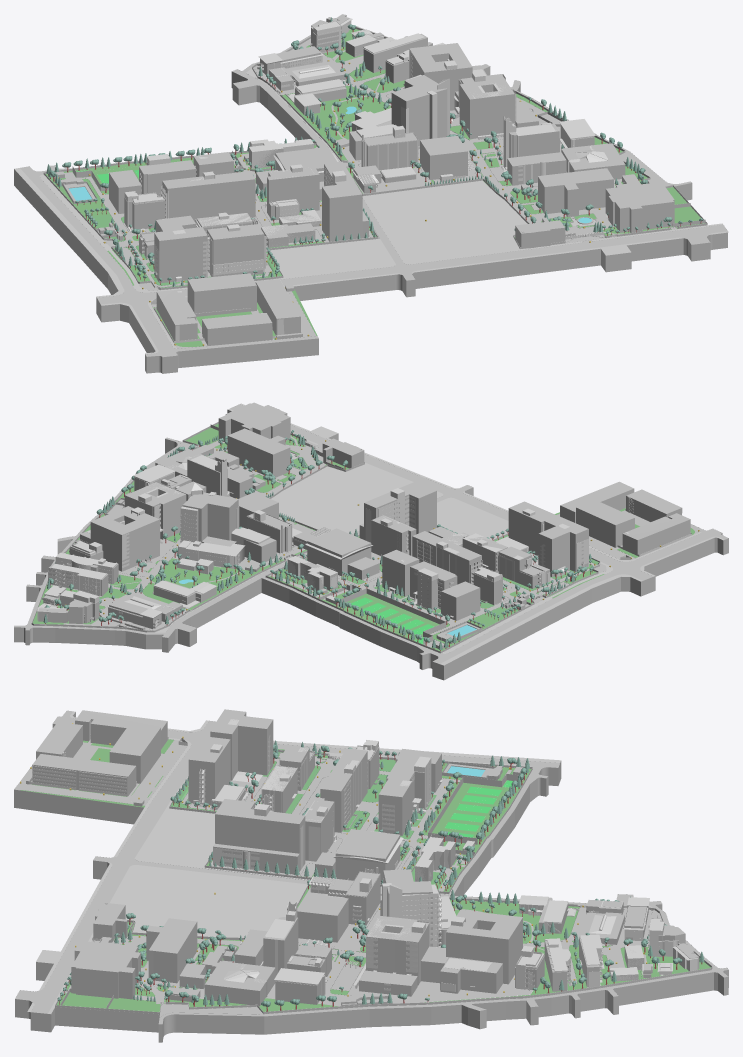
File: uec-all.glb
3 views of the same model, one above another, from view 1: azimuth 30°, elevation 25°; view 2: azimuth 150°, elevation 25°; view 3: azimuth 270°, elevation 25° (orthographic). The views are drawn at different scales.
Visible parts, largest first — view 1: Body19, Body29, Body623, Body714, buil_西2号館, buil_東4号館, Body28, buil_東講堂, buil_西9号館, buil_東本館A, buil_西10号館, buil_UECポートアライアンスセンター (+45 smaller); view 2: Body623, Body19, Body29, Body717, buil_東6号館, buil_西体育館, buil_東本館A, buil_西9号館, buil_東講堂, buil_西10号館, buil_東図書館A, Body28 (+52 smaller); view 3: Body623, Body19, Body29, buil_西10号館, buil_東6号館, buil_東4号館, buil_東講堂, Body28, buil_西9号館, buil_東本館A, buil_UECポートドーム絆, buil_西体育館 (+63 smaller).
Boxes of the visible parts, left/top/right/bottom form: Body19: left=20, top=14, right=727, bottom=357; Body29: left=363, top=180, right=527, bottom=263; Body623: left=49, top=15, right=727, bottom=373; Body714: left=412, top=238, right=683, bottom=288; buil_西2号館: left=162, top=171, right=255, bottom=223; buil_東4号館: left=459, top=74, right=538, bottom=139; Body28: left=270, top=238, right=395, bottom=277; buil_東講堂: left=605, top=178, right=674, bottom=232; buil_西9号館: left=154, top=217, right=207, bottom=283; buil_東本館A: left=538, top=168, right=613, bottom=217; buil_西10号館: left=322, top=161, right=368, bottom=241; buil_UECポートアライアンスセンター: left=187, top=273, right=256, bottom=316; Body623: left=14, top=439, right=728, bottom=678; Body19: left=14, top=404, right=728, bottom=663; Body29: left=271, top=464, right=441, bottom=533; Body717: left=439, top=577, right=642, bottom=680; buil_東6号館: left=90, top=506, right=159, bottom=571; buil_西体育館: left=307, top=528, right=379, bottom=579; buil_東本館A: left=227, top=428, right=290, bottom=477; buil_西9号館: left=538, top=515, right=588, bottom=576; buil_東講堂: left=218, top=402, right=290, bottom=441; buil_西10号館: left=359, top=481, right=436, bottom=540; buil_東図書館A: left=182, top=492, right=238, bottom=542; Body28: left=437, top=498, right=508, bottom=539; Body623: left=14, top=716, right=728, bottom=1042; Body19: left=14, top=710, right=728, bottom=1024; Body29: left=113, top=865, right=307, bottom=937; buil_西10号館: left=213, top=799, right=305, bottom=874; buil_東6号館: left=446, top=910, right=522, bottom=984; buil_東4号館: left=359, top=915, right=429, bottom=996; buil_東講堂: left=71, top=941, right=140, bottom=999; Body28: left=137, top=808, right=214, bottom=868; buil_西9号館: left=210, top=709, right=273, bottom=780; buil_東本館A: left=146, top=918, right=197, bottom=983; buil_UECポートドーム絆: left=32, top=754, right=136, bottom=795; buil_西体育館: left=335, top=829, right=400, bottom=882.
Size of the model in its own units: 529 by 66.4 by 509.
